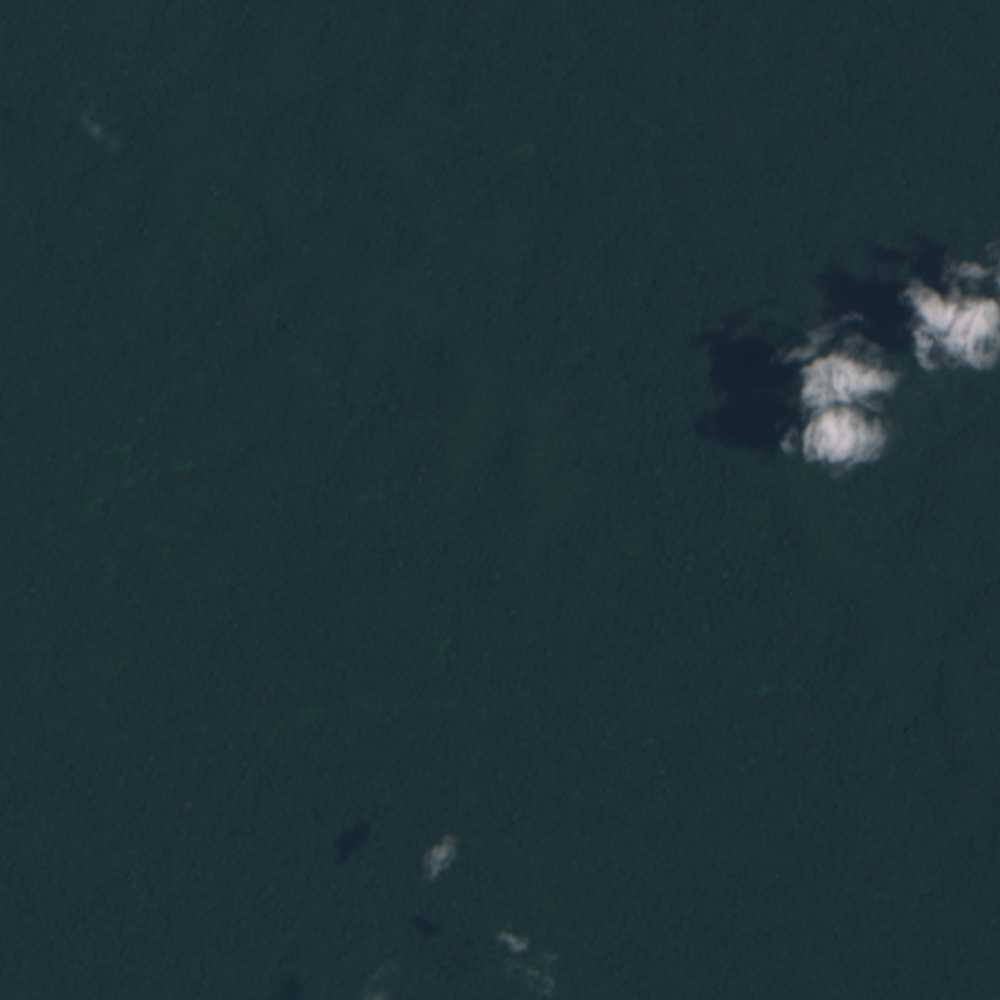illegal: (287, 173, 330, 226)
